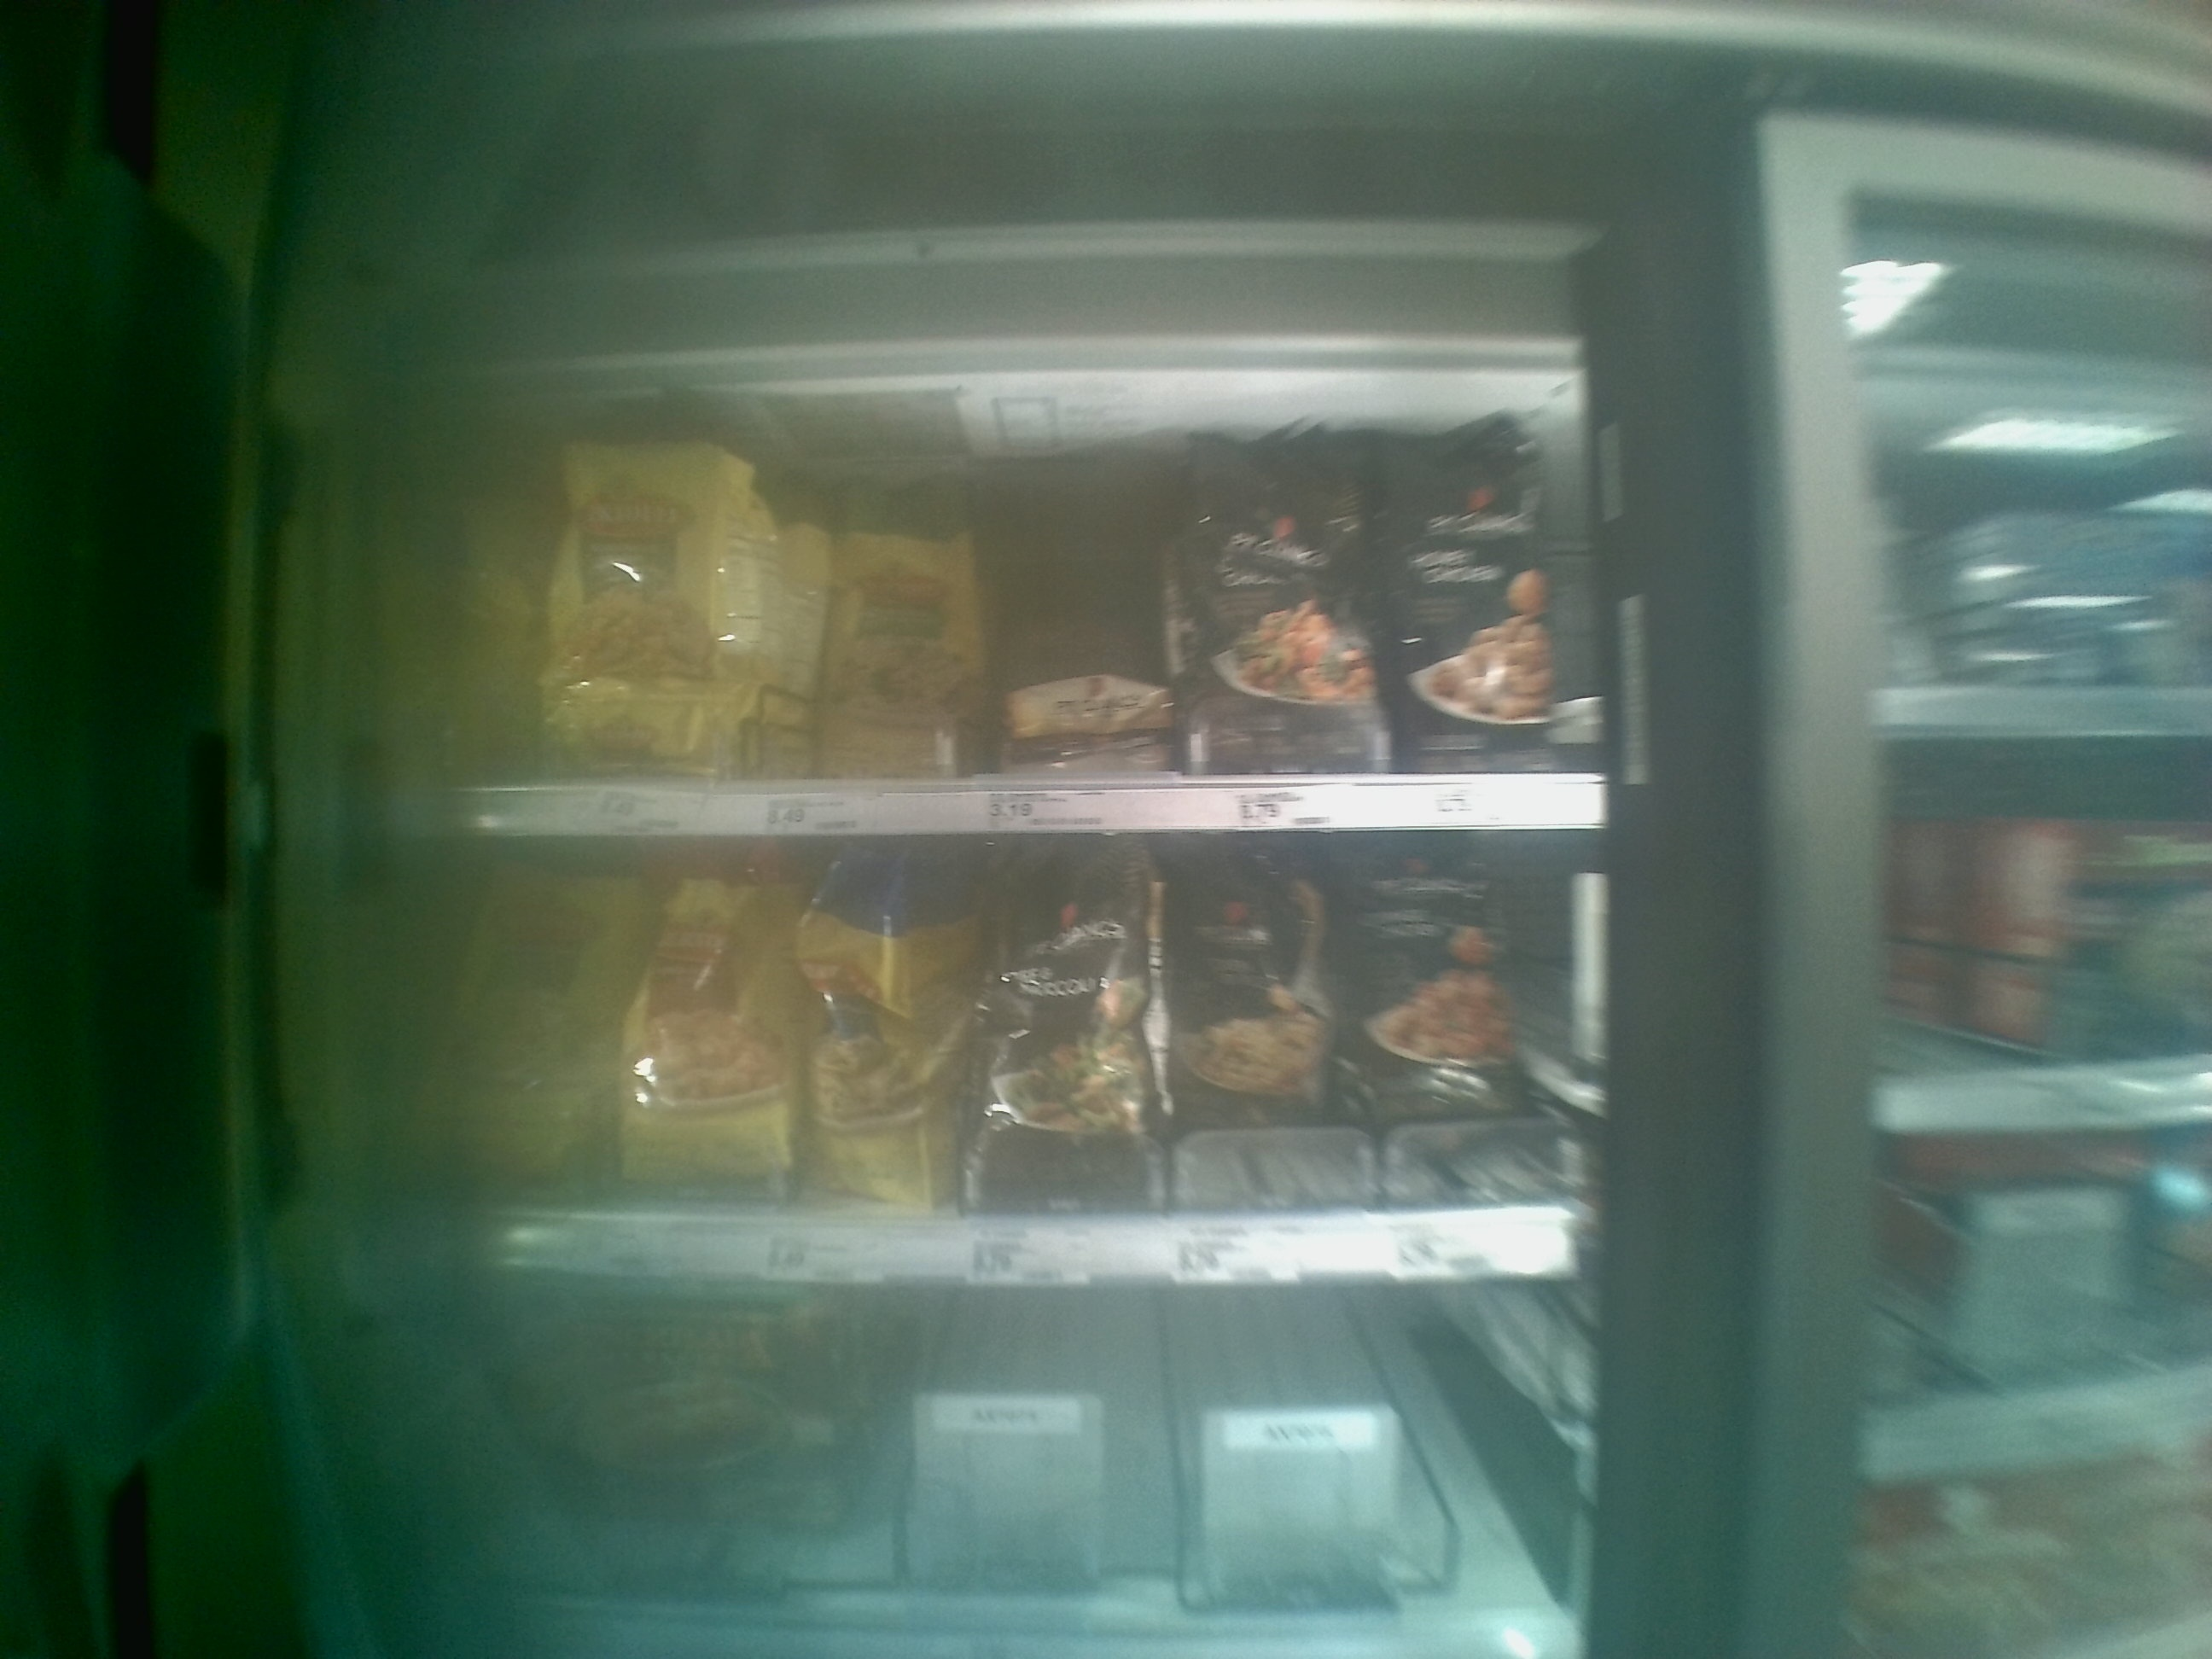shelf: (411, 838, 1587, 1293), (401, 390, 1611, 826), (455, 1300, 1573, 1656)
